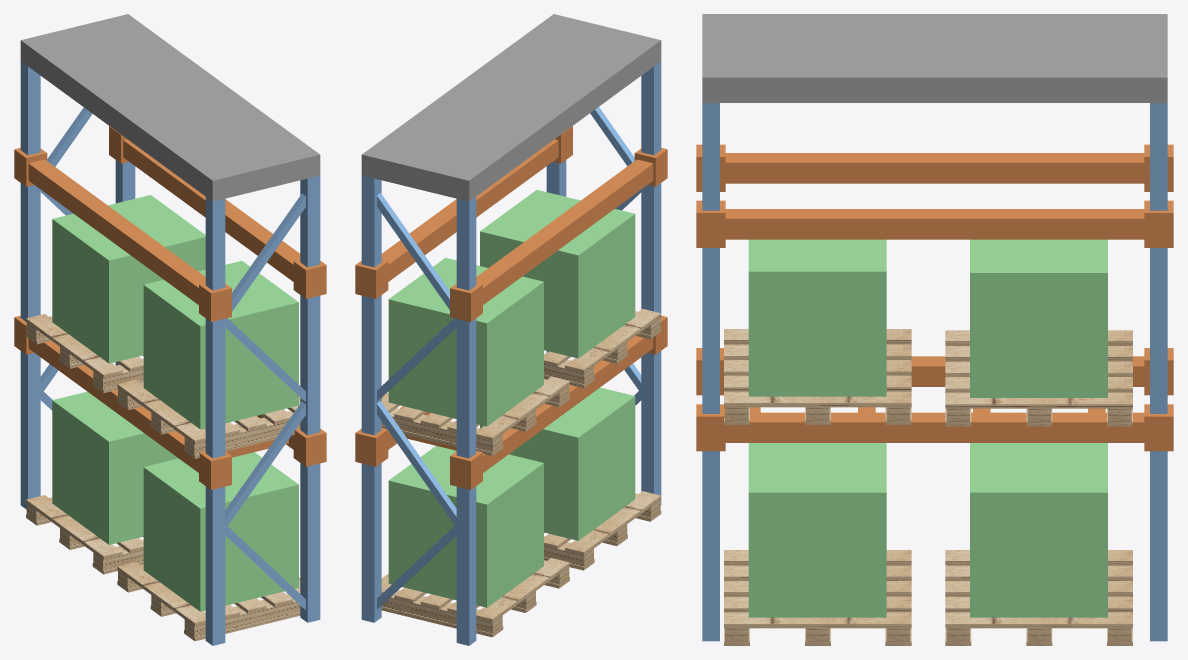
Rendered from raflar.fbx.
3 renders of one model, left to right at view 1: azimuth 30°, elevation 25°; view 2: azimuth 150°, elevation 25°; view 3: azimuth 270°, elevation 25°, orthographic. The views are drawn at different scales.
Parts seen in each view (by area): view 1: ust, Cube.008, Cube.004, Cube.010, Cube.002, dikeyDemir, dikeyDemir.002, dikeyDemir.001, yatayDemir.002, palet, palet.002, yatayDemir.003 (+14 smaller); view 2: ust, Cube.002, Cube.010, Cube.008, Cube.004, dikeyDemir.001, dikeyDemir.003, dikeyDemir, yatayDemir.002, palet.001, palet.003, yatayDemir.003 (+13 smaller); view 3: ust, Cube.004, Cube.002, Cube.008, Cube.010, yatayDemir.002, yatayDemir.003, yatayDemir.001, dikeyDemir.002, dikeyDemir.003, palet, palet.002 (+7 smaller).
Boxes of the visible parts, x1=… form: ust: x1=20, y1=14, x2=320, y2=201; Cube.008: x1=143, y1=260, x2=298, y2=429; Cube.004: x1=143, y1=452, x2=298, y2=611; Cube.010: x1=52, y1=195, x2=205, y2=363; Cube.002: x1=52, y1=391, x2=205, y2=544; dikeyDemir: x1=205, y1=197, x2=225, y2=645; dikeyDemir.002: x1=300, y1=175, x2=320, y2=622; dikeyDemir.001: x1=20, y1=61, x2=40, y2=509; yatayDemir.002: x1=28, y1=159, x2=205, y2=304; palet: x1=117, y1=562, x2=300, y2=641; palet.002: x1=117, y1=379, x2=300, y2=458; yatayDemir.003: x1=123, y1=139, x2=300, y2=281; ust: x1=361, y1=14, x2=661, y2=201; Cube.002: x1=388, y1=446, x2=543, y2=607; Cube.010: x1=388, y1=257, x2=543, y2=426; Cube.008: x1=480, y1=190, x2=635, y2=358; Cube.004: x1=480, y1=387, x2=635, y2=540; dikeyDemir.001: x1=456, y1=197, x2=476, y2=645; dikeyDemir.003: x1=361, y1=175, x2=381, y2=622; dikeyDemir: x1=641, y1=61, x2=661, y2=505; yatayDemir.002: x1=476, y1=159, x2=653, y2=304; palet.001: x1=381, y1=558, x2=569, y2=637; palet.003: x1=381, y1=376, x2=569, y2=455; yatayDemir.003: x1=381, y1=139, x2=558, y2=281; ust: x1=702, y1=14, x2=1167, y2=102; Cube.004: x1=748, y1=443, x2=886, y2=617; Cube.002: x1=970, y1=443, x2=1107, y2=617; Cube.008: x1=748, y1=239, x2=886, y2=396; Cube.010: x1=970, y1=239, x2=1107, y2=397; yatayDemir.002: x1=725, y1=153, x2=1144, y2=183; yatayDemir.003: x1=725, y1=209, x2=1144, y2=239; yatayDemir.001: x1=725, y1=412, x2=1144, y2=442; dikeyDemir.002: x1=702, y1=103, x2=719, y2=641; dikeyDemir.003: x1=1150, y1=103, x2=1167, y2=641; palet: x1=724, y1=550, x2=911, y2=645; palet.002: x1=724, y1=329, x2=911, y2=424.
Size of the model in its own units: 253 by 902 by 692.
